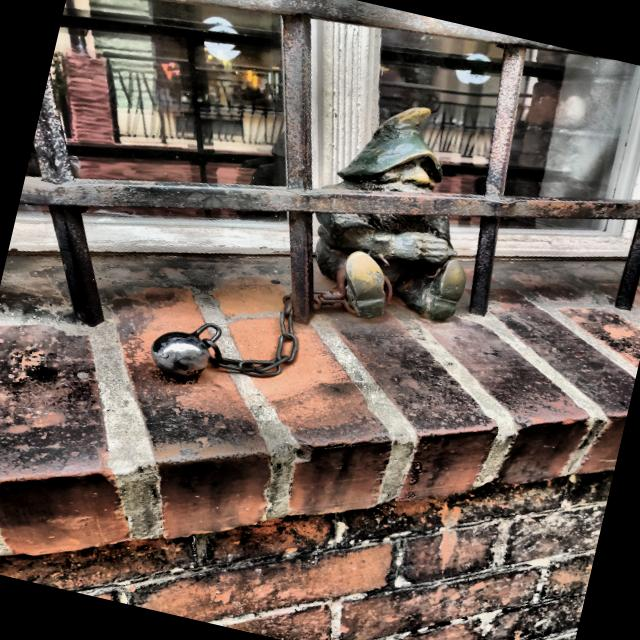Wiezien: (312, 213, 466, 321), (150, 296, 298, 377), (329, 107, 441, 193)
